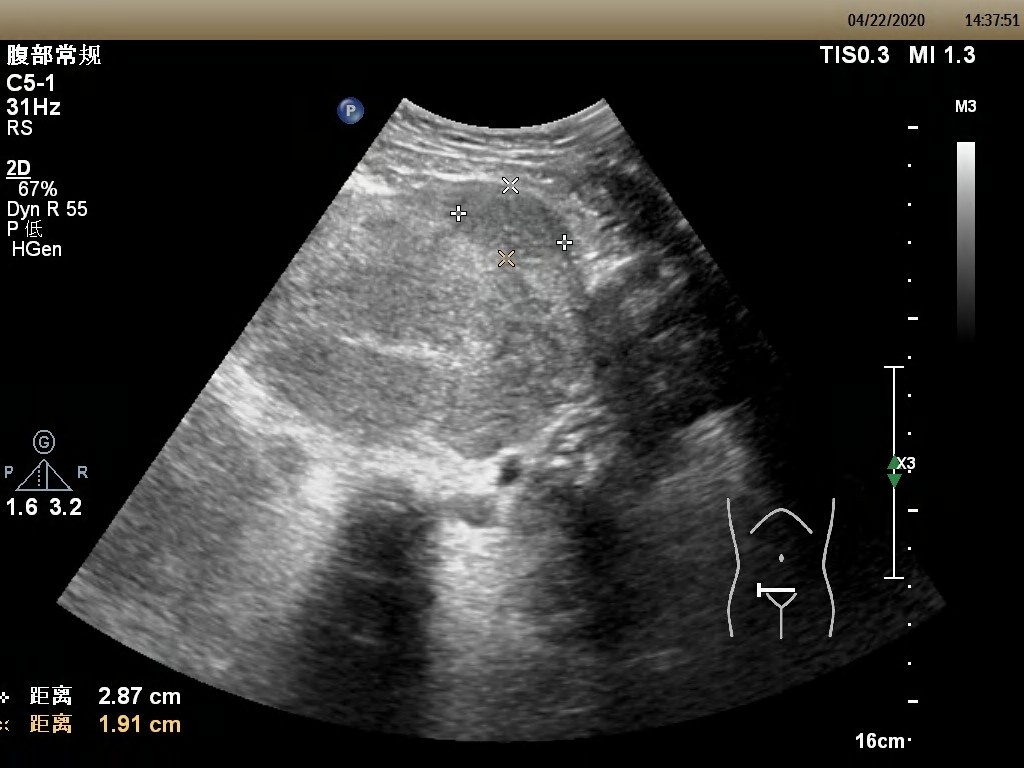肌瘤: (455, 181, 565, 256)
